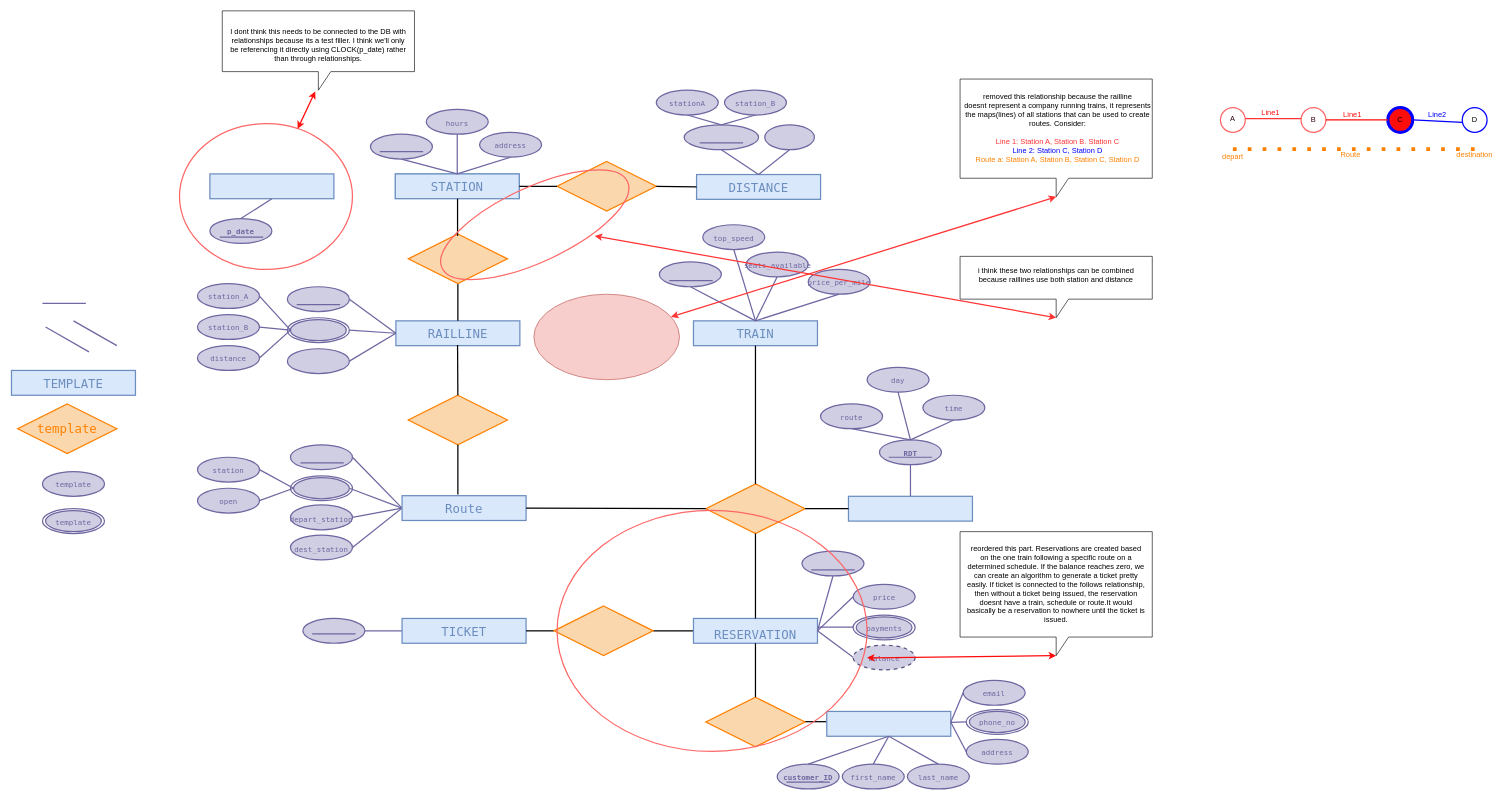
Image size: 1504x800. Some labels were removed from this diagram. Each missing label, with the centre of its shape:
books: [755,721]
CLOCK: [271,186]
composes: [457,258]
follows: [755,508]
has: [606,186]
issued: [603,630]
miles: [789,137]
passed by: [457,419]
PASSENGER: [888,724]
rail_ID: [318,299]
reserv_no: [832,563]
route_ID: [321,457]
SCHEDULE: [910,508]
speed_limit: [318,361]
station_dis: [318,330]
station_no: [401,146]
station_open: [321,488]
stationA-stationB: [721,137]
ticket_no: [333,631]
train_ID: [690,274]
